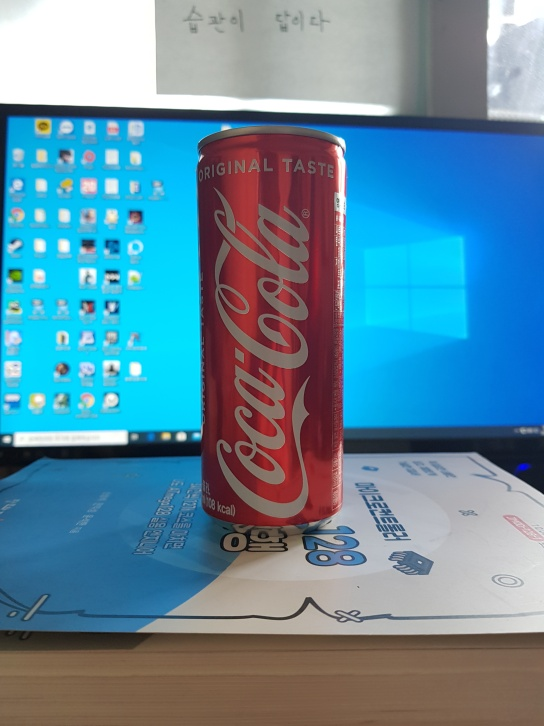Can: (194, 123, 349, 539)
